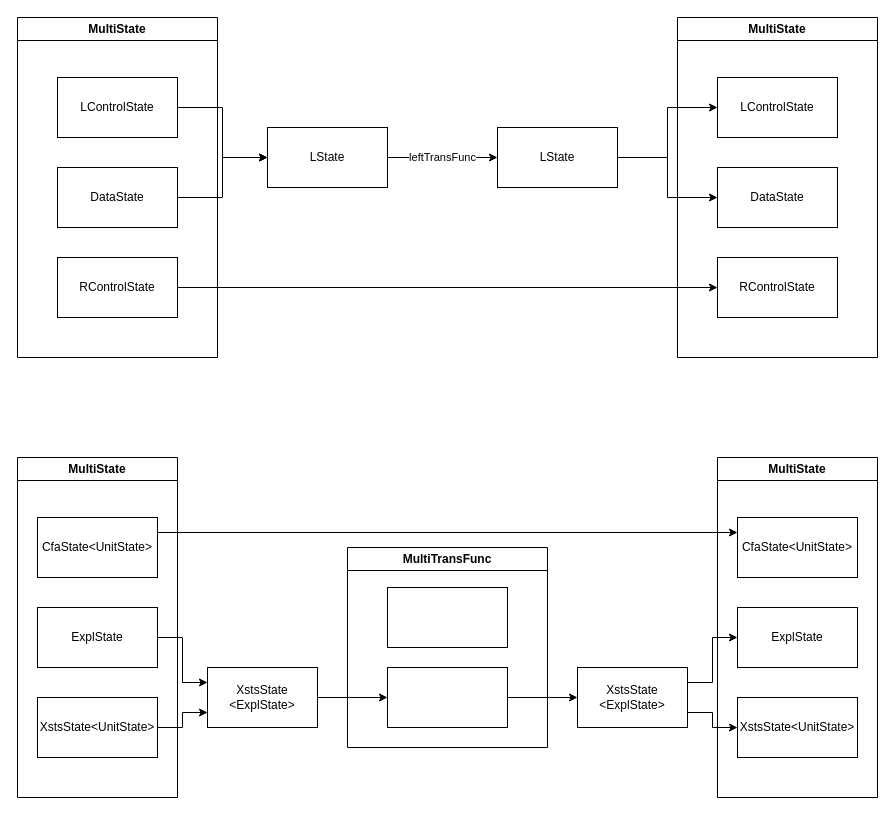
Image size: 895x815. Some labels were removed from this diagram. The shapes that lost their labels are listed below. From the top down, each one's centre as x and y in pixels, then its label:
the point at 447,617: CfaTransFunc <ExplState>
the point at 447,697: XstsTransFunc <ExplState>
